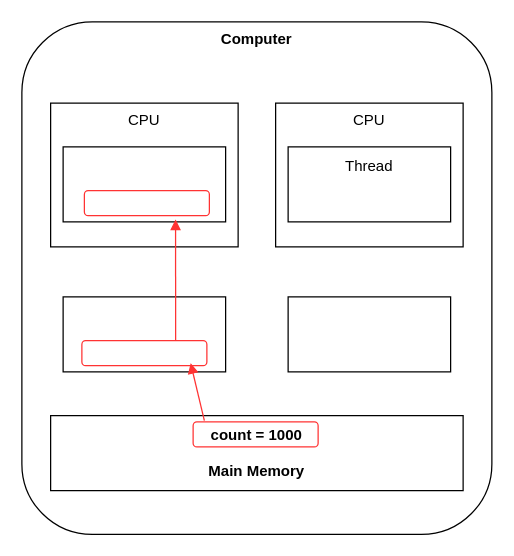
The diagram is 514 pixels wide and 556 high, and some of its shapes have lost their labels. The box of each missing label's shape, as (x1, y1, x2, y2) in pixels:
CPU Cache Memory: (287, 296, 451, 372)
CPU Cache Memory count = 1000: (62, 296, 226, 372)
Thread count += 1: (62, 146, 226, 222)
